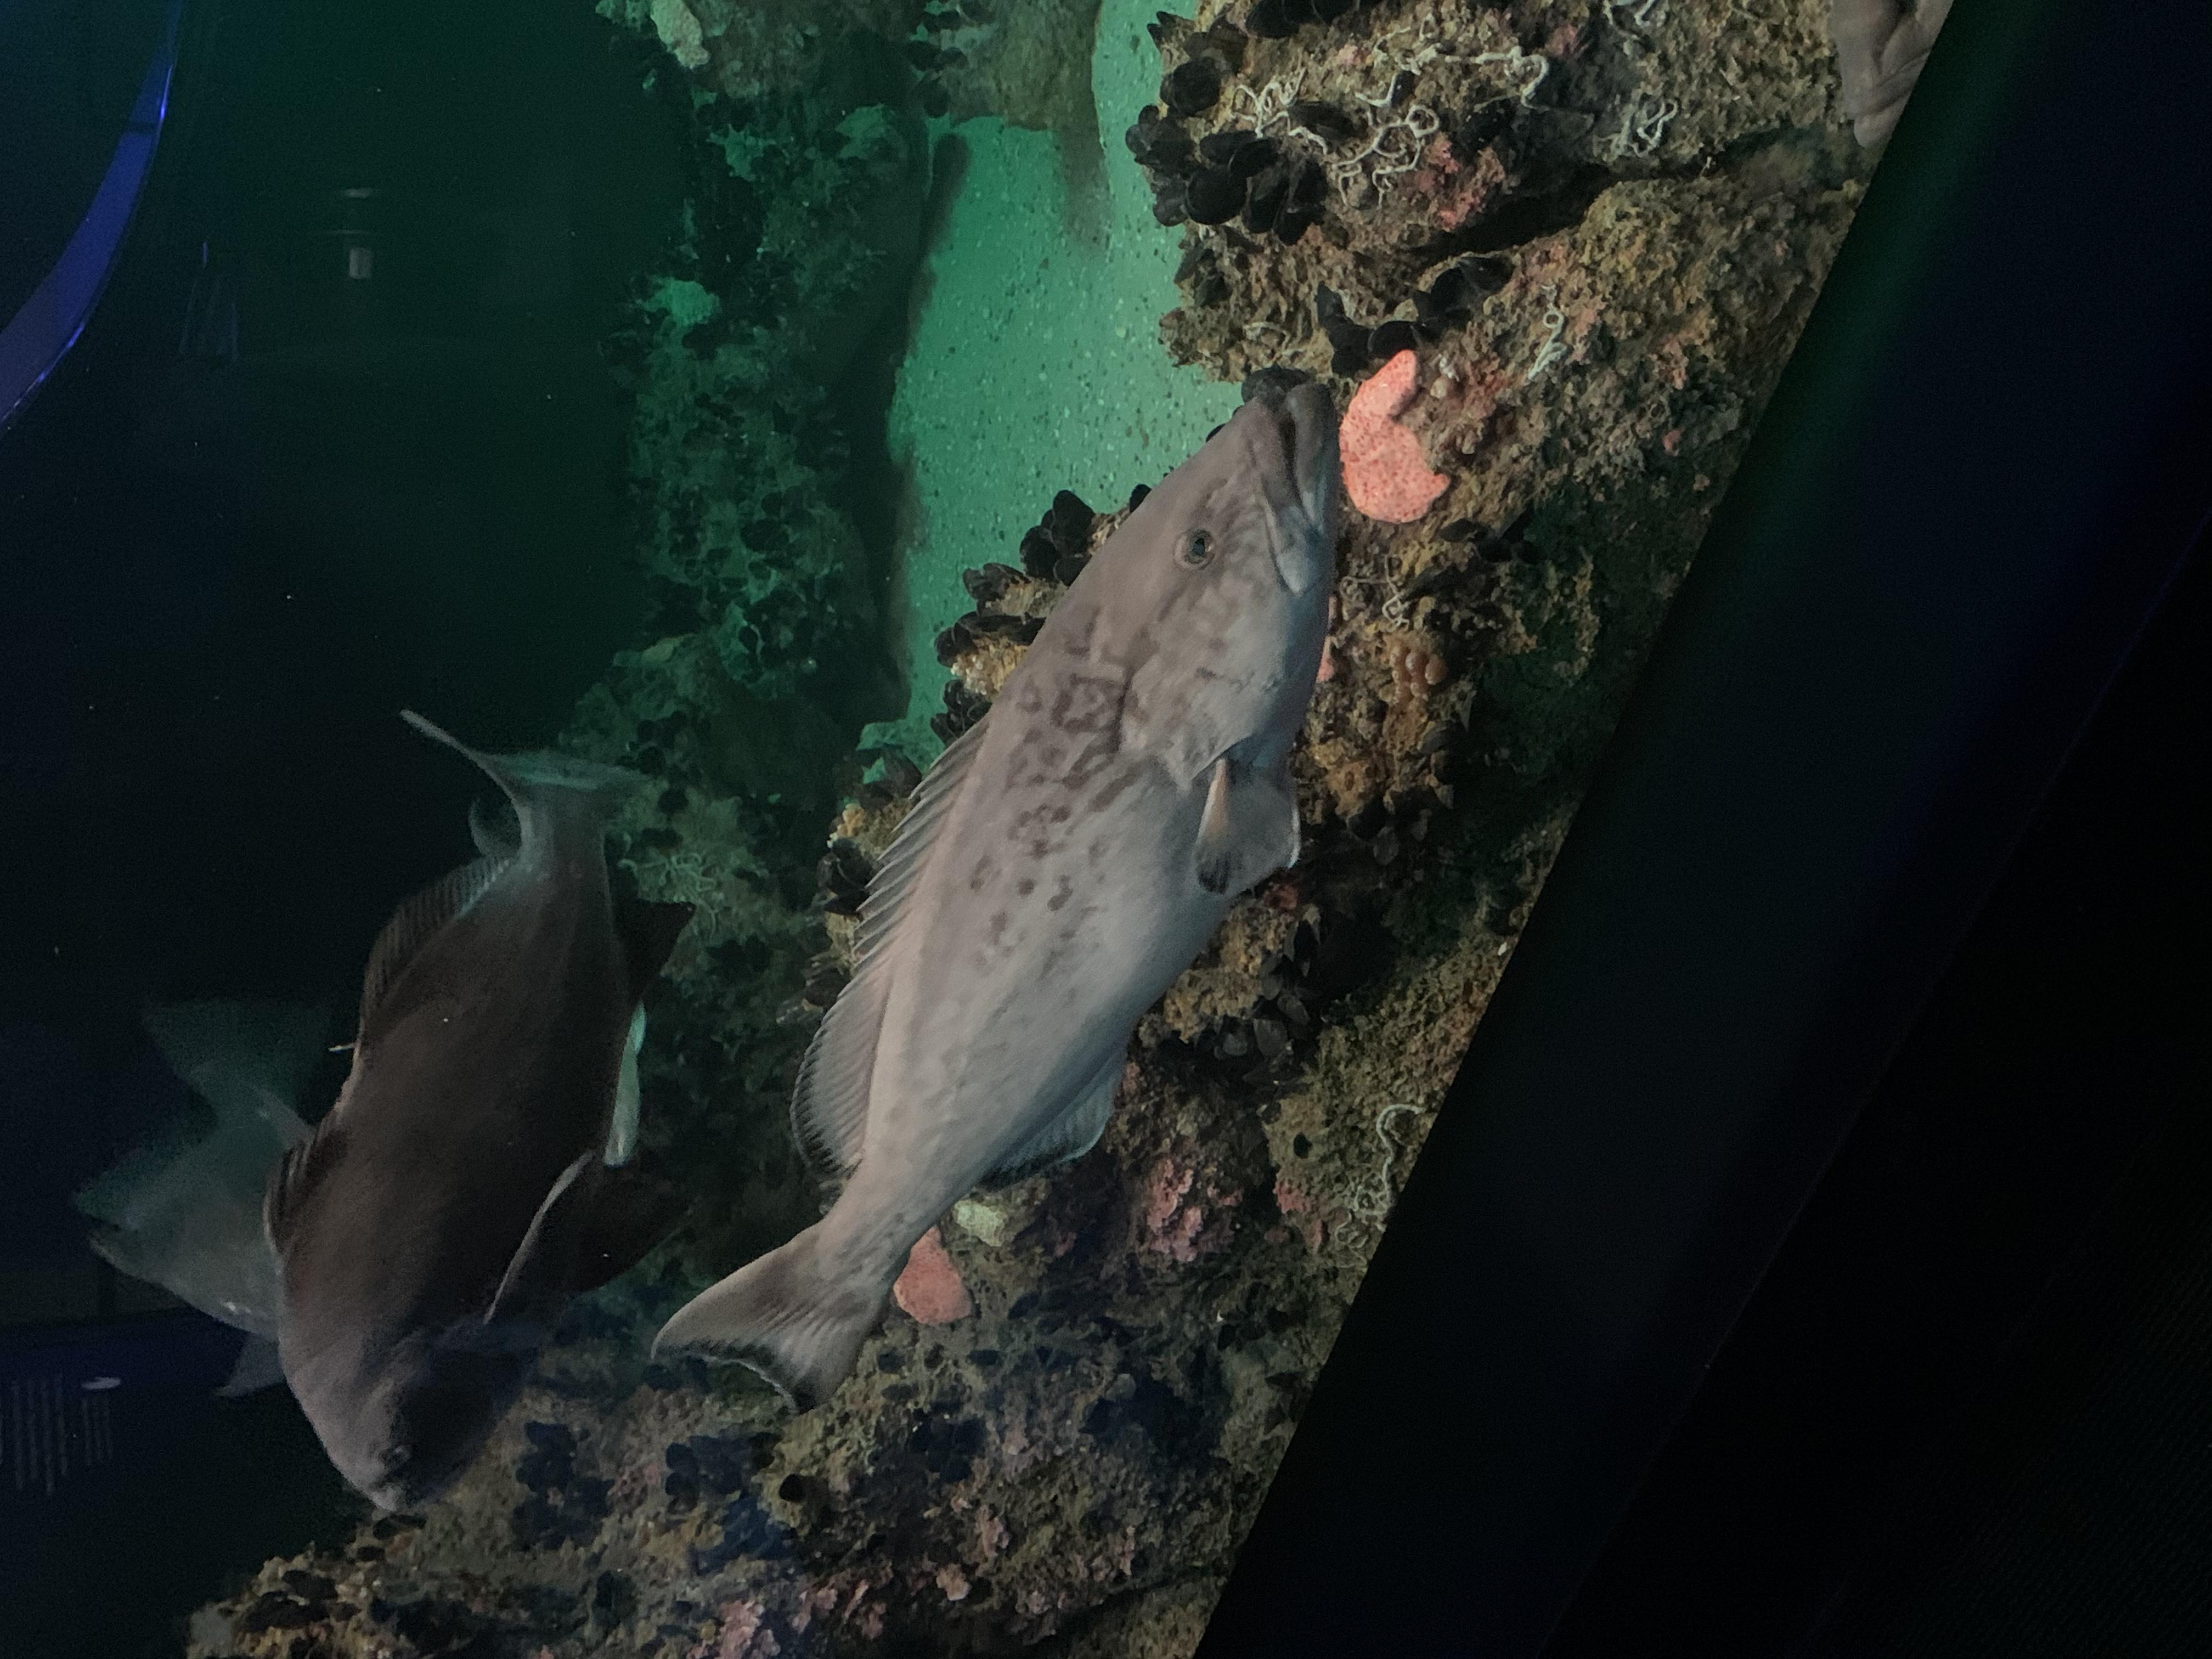fish: (648, 368, 1360, 1432), (251, 692, 711, 1542), (52, 946, 371, 1443)
